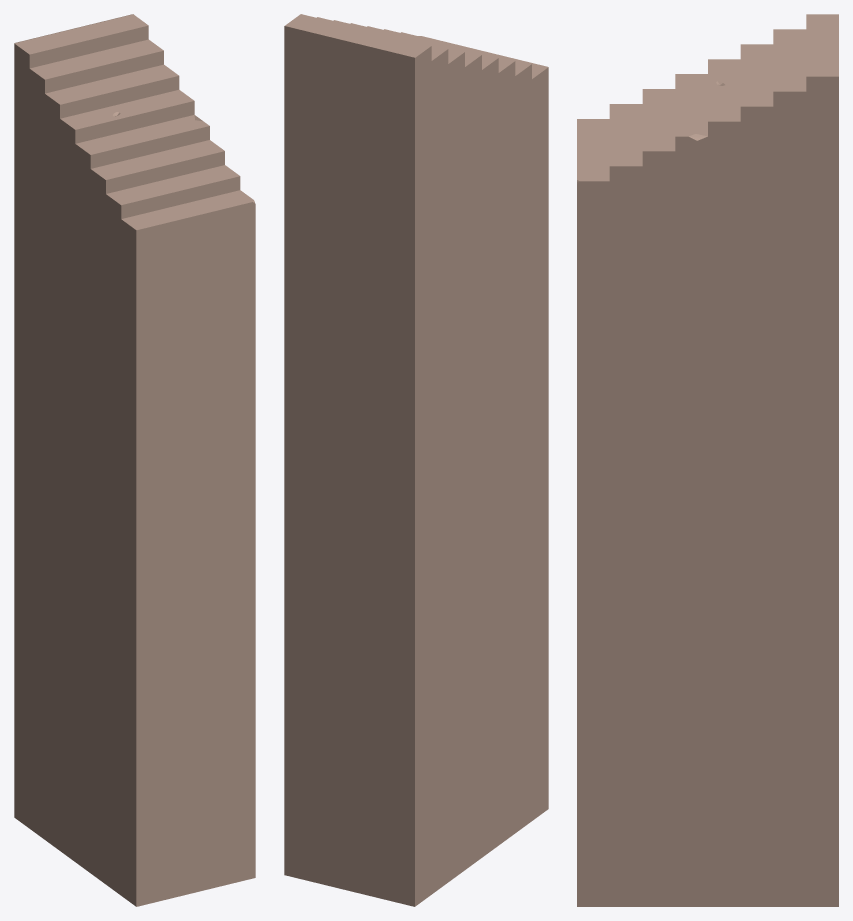
Rendered from Rampa_M.fbx.
3 views of the same model, side by side, from view 1: azimuth 30°, elevation 25°; view 2: azimuth 150°, elevation 25°; view 3: azimuth 270°, elevation 25° (orthographic). The views are drawn at different scales.
Visible parts, largest first — view 1: Rampa-M; view 2: Rampa-M; view 3: Rampa-M.
Part boxes in pixels (bbox=[...]): Rampa-M: bbox=[14, 14, 255, 906]; Rampa-M: bbox=[284, 14, 548, 906]; Rampa-M: bbox=[577, 14, 838, 906].
Size of the model in its own units: 1215 by 7541 by 2156.
